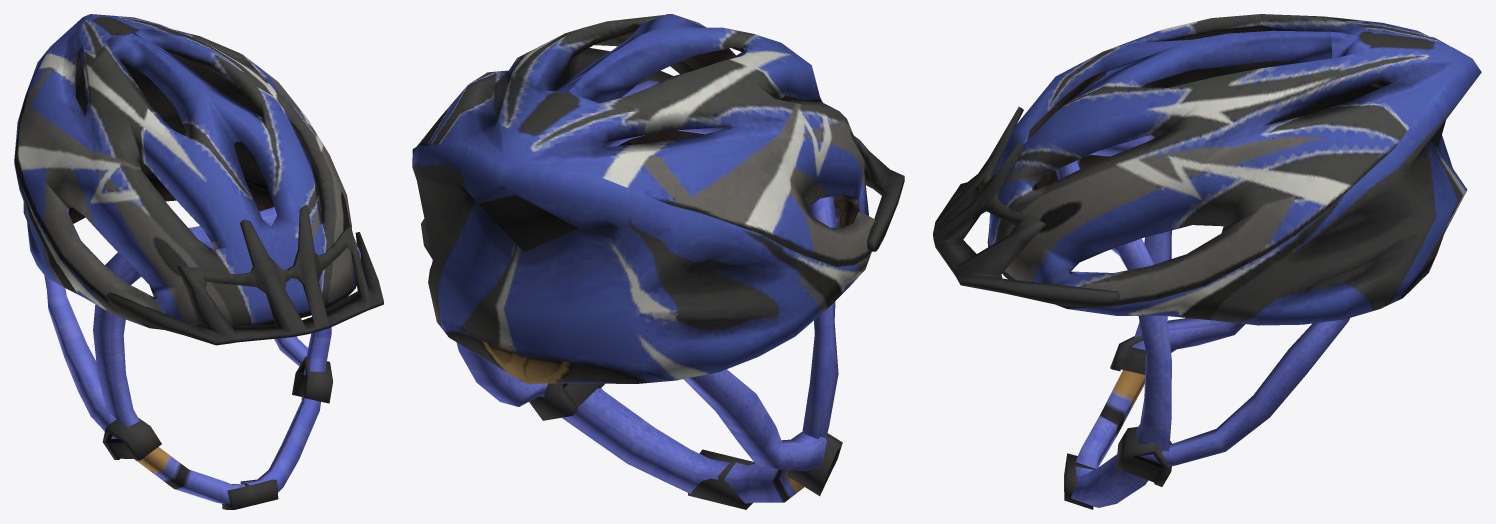
The picture shows the model from 3 angles, left to right: view 1: azimuth 30°, elevation 25°; view 2: azimuth 150°, elevation 25°; view 3: azimuth 270°, elevation 25°; orthographic projection. The views are drawn at different scales.
Visible parts, largest first — view 1: H_Q3_M_Hr_6002; view 2: H_Q3_M_Hr_6002; view 3: H_Q3_M_Hr_6002.
Part boxes in pixels (x1,y1,x2,y2): H_Q3_M_Hr_6002: (14,14,383,509); H_Q3_M_Hr_6002: (412,14,904,509); H_Q3_M_Hr_6002: (933,14,1481,509).
Bounding box in the file's own units: 26.55 × 38.99 × 36.53.
